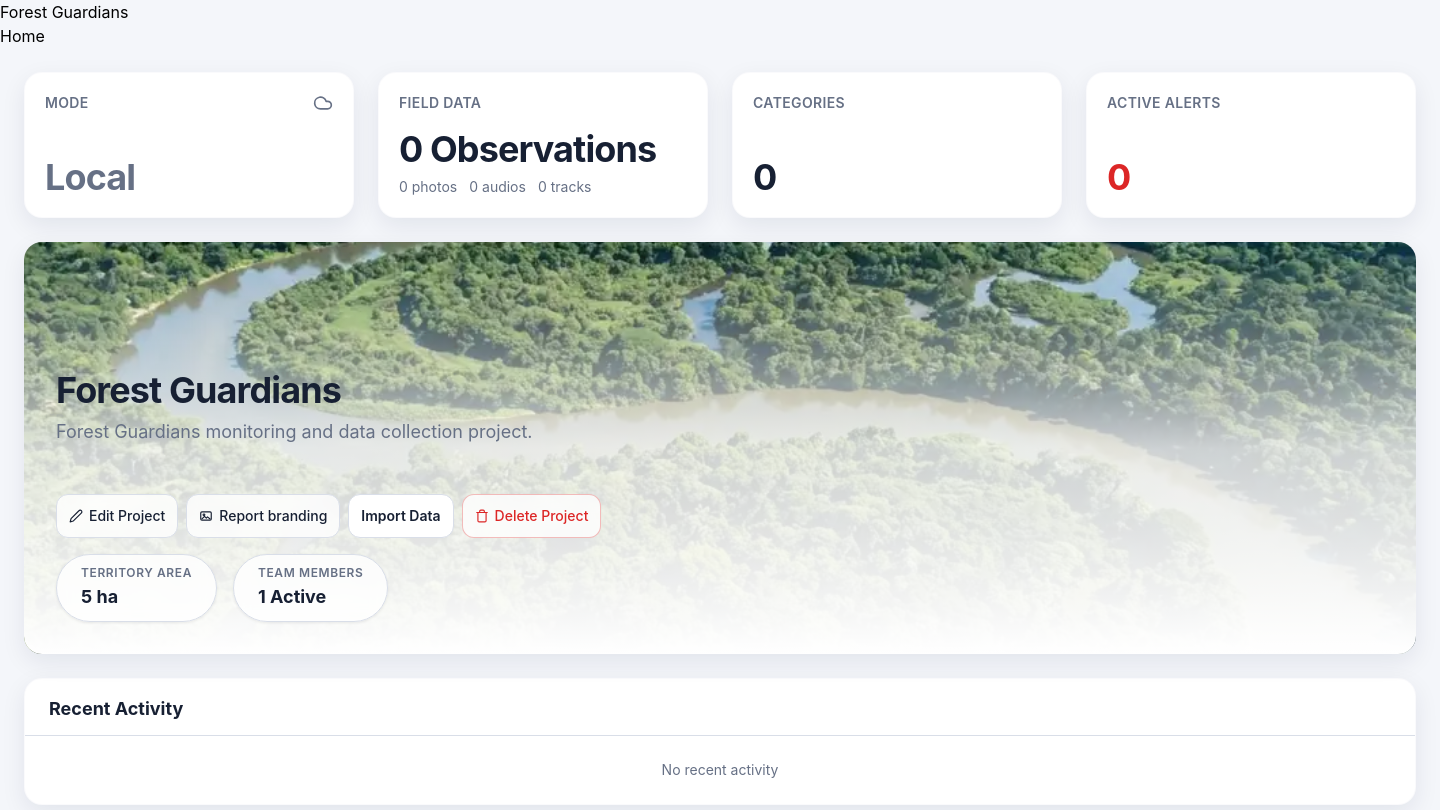
Scenario: HomeScreen › opens project-scoped report branding from the Home banner
Expected: the text with test id "shell-workspace" reads "Forest Guardians", [0,2,128,22]
Click the button "Report branding" at x=263, y=516, box [186,494,340,538]
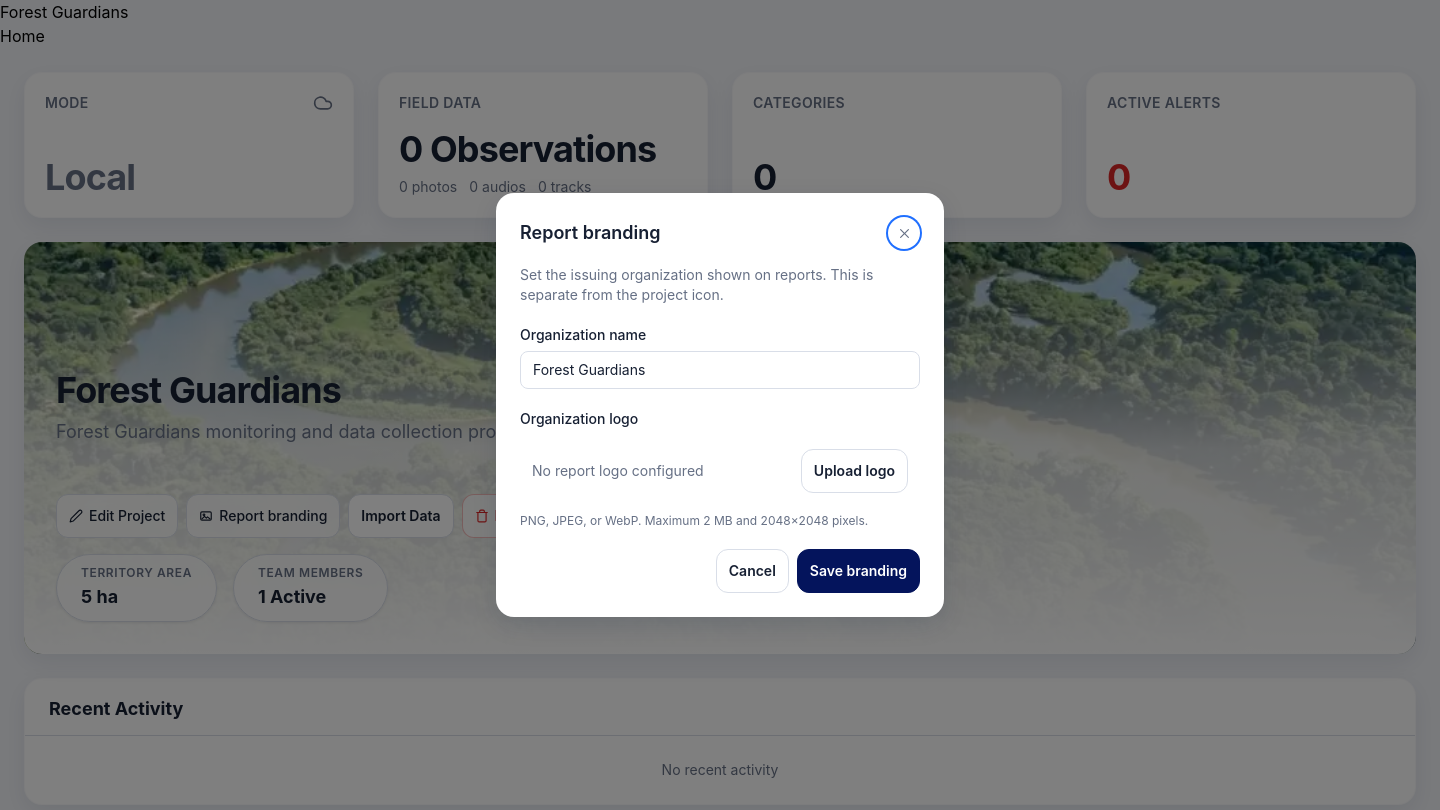
Result: the dialog "Report branding" is shown at [496,193,944,617]
Result: the field labelled "Organization name" holds "Forest Guardians" at [520,351,920,389]
